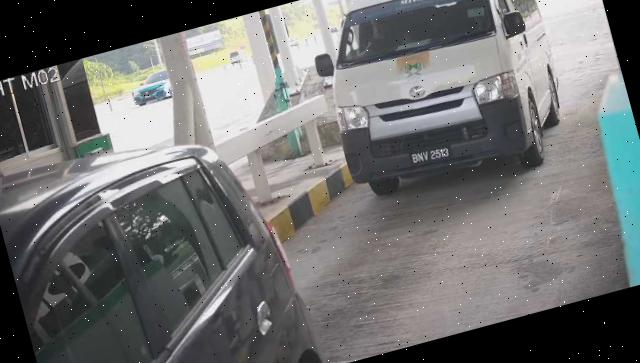License_Plate: (408, 139, 456, 172)
van: (304, 1, 579, 213)
